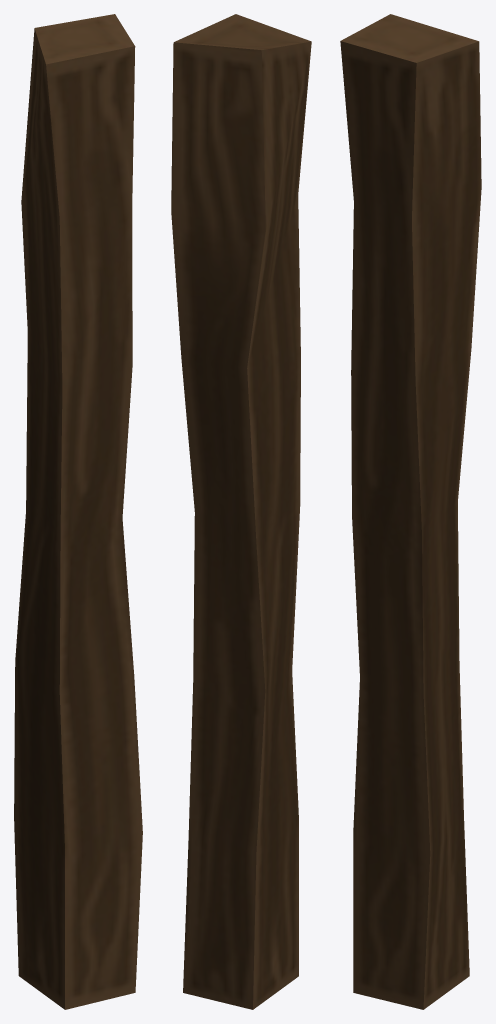
File: FenceEnd02_Geo.fbx
3 renders of one model, left to right at view 1: azimuth 30°, elevation 25°; view 2: azimuth 150°, elevation 25°; view 3: azimuth 330°, elevation 25°, orthographic.
Visible parts, largest first — view 1: FenceEnd021_Geo; view 2: FenceEnd021_Geo; view 3: FenceEnd021_Geo.
Part boxes in pixels (left/top/right/bottom): FenceEnd021_Geo: left=14, top=14, right=142, bottom=1009; FenceEnd021_Geo: left=171, top=14, right=311, bottom=1009; FenceEnd021_Geo: left=340, top=14, right=481, bottom=1009.
Size of the model in its own units: 11.03 by 96.83 by 10.08.
